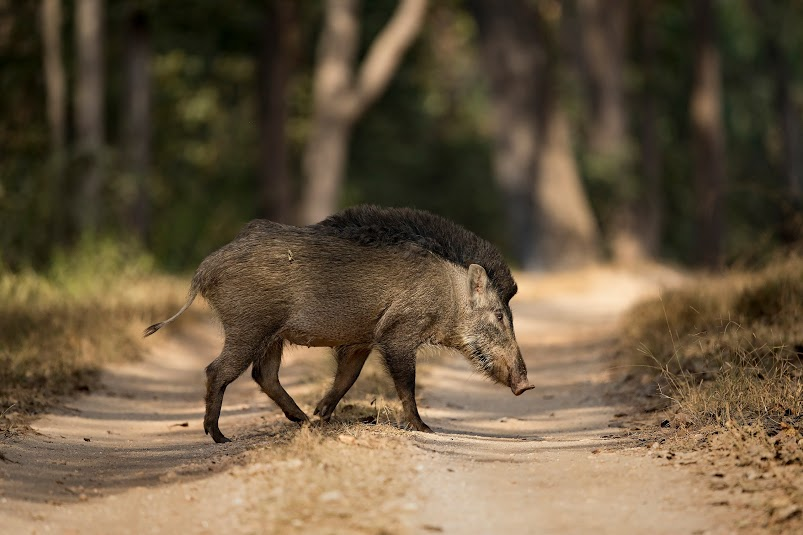wild boar: (133, 192, 550, 453)
